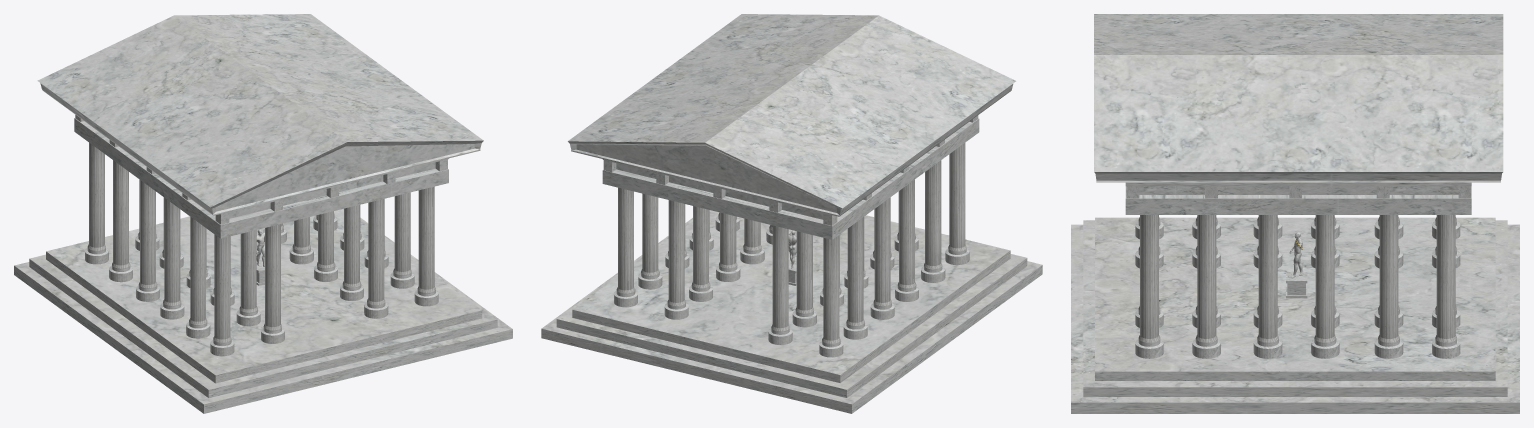
File: temple.glb
The picture shows the model from 3 angles, left to right: view 1: azimuth 30°, elevation 25°; view 2: azimuth 150°, elevation 25°; view 3: azimuth 270°, elevation 25°; orthographic projection. The views are drawn at different scales.
Parts seen in each view (by area): view 1: greek_temple_roof_Cube.021, greek_temple_bottom_Cube, greek_temple_pillars_Cylinder.001, greek_temple_roof_bottom_Cube.004, greek_temple_roof_bottom_squares_Cube.010; view 2: greek_temple_roof_Cube.021, greek_temple_bottom_Cube, greek_temple_pillars_Cylinder.001, greek_temple_roof_bottom_Cube.004, greek_temple_roof_bottom_squares_Cube.010; view 3: greek_temple_roof_Cube.021, greek_temple_bottom_Cube, greek_temple_pillars_Cylinder.001, greek_temple_roof_bottom_Cube.004, greek_temple_roof_bottom_squares_Cube.010, greek_temple_statue_stand_Cube.023.
Part boxes in pixels (box(x1,y1,x2,y2)): greek_temple_roof_Cube.021: box(37, 14, 483, 215); greek_temple_bottom_Cube: box(14, 208, 512, 413); greek_temple_pillars_Cylinder.001: box(85, 142, 438, 356); greek_temple_roof_bottom_Cube.004: box(74, 118, 448, 238); greek_temple_roof_bottom_squares_Cube.010: box(75, 115, 447, 224); greek_temple_roof_Cube.021: box(568, 14, 1016, 216); greek_temple_bottom_Cube: box(541, 210, 1042, 413); greek_temple_pillars_Cylinder.001: box(614, 143, 969, 357); greek_temple_roof_bottom_Cube.004: box(602, 118, 979, 239); greek_temple_roof_bottom_squares_Cube.010: box(603, 115, 978, 225); greek_temple_roof_Cube.021: box(1094, 14, 1503, 186); greek_temple_bottom_Cube: box(1071, 217, 1519, 413); greek_temple_pillars_Cylinder.001: box(1135, 215, 1460, 358); greek_temple_roof_bottom_Cube.004: box(1125, 186, 1471, 214); greek_temple_roof_bottom_squares_Cube.010: box(1126, 186, 1471, 198); greek_temple_statue_stand_Cube.023: box(1286, 272, 1307, 298).
Size of the model in its own units: 10.15 by 7.14 by 10.8.
2 materials, 1 textured.
